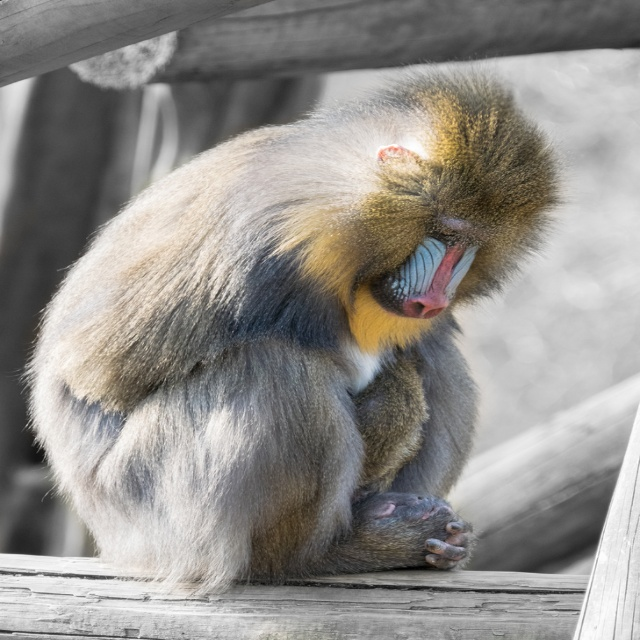Monkey: (3, 54, 588, 597)
